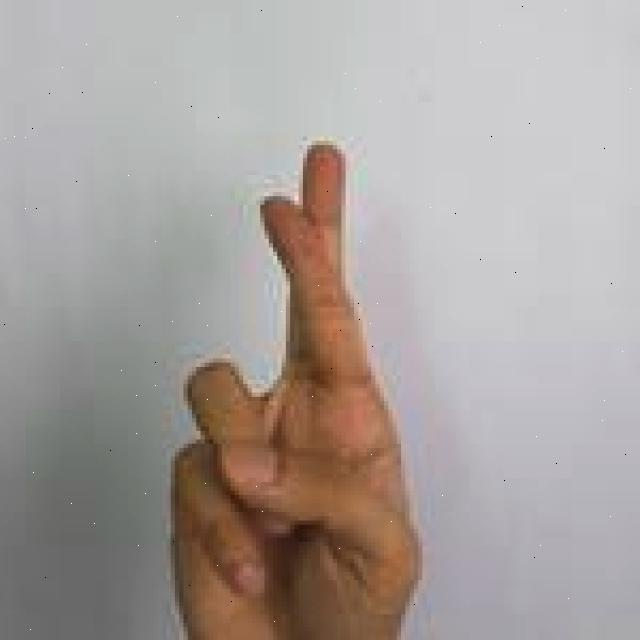R: (160, 136, 427, 640)
